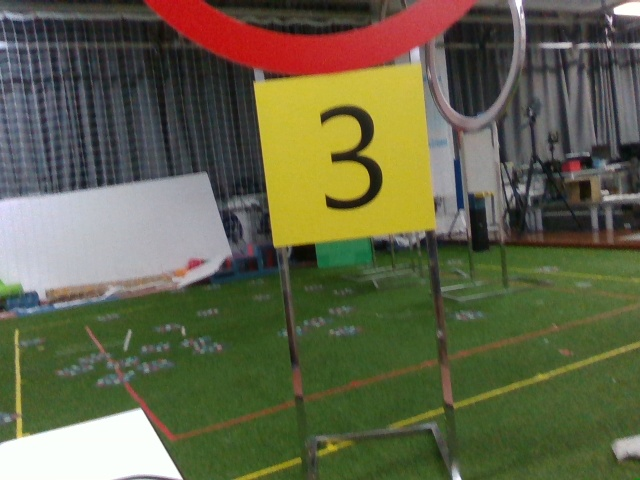target: (260, 69, 428, 230)
